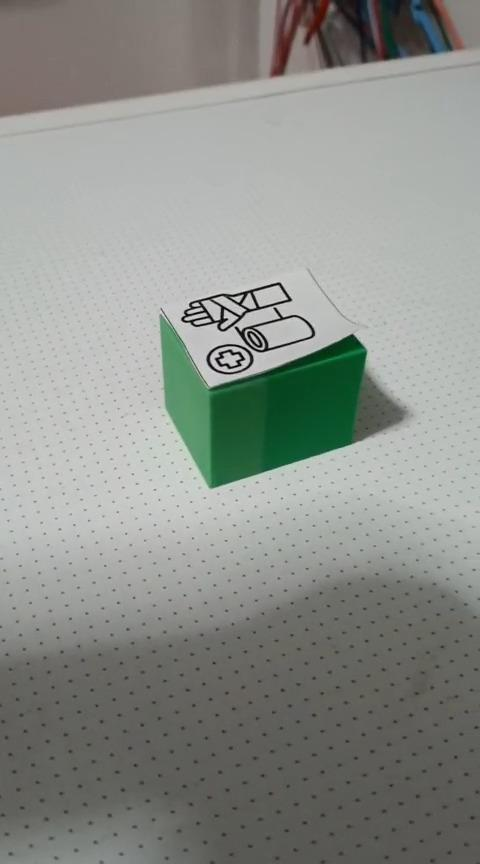Bandages: (157, 265, 368, 489)
